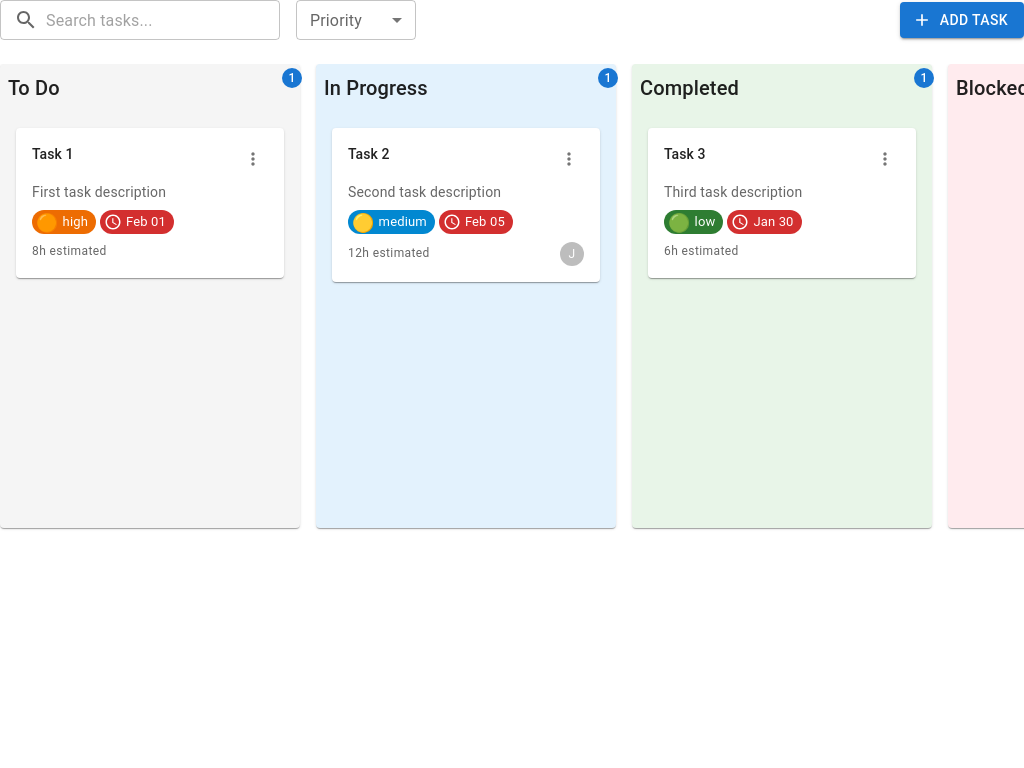
Test: KanbanBoard › opens task dialog when Add Task button is clicked
The width and height of the screenshot is (1024, 768).
Click the button "Add Task".
click(962, 20)  # box x1=900 y1=2 x2=1023 y2=38
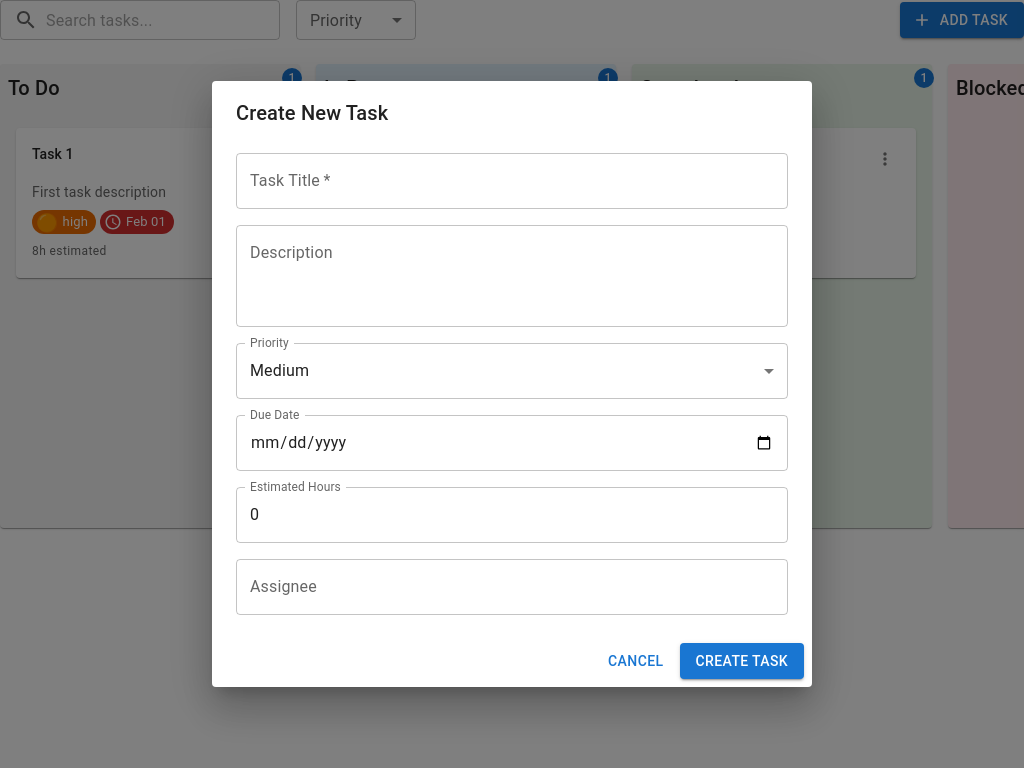
Expected: the heading "Create New Task" is shown, x1=236 y1=101 x2=388 y2=125
